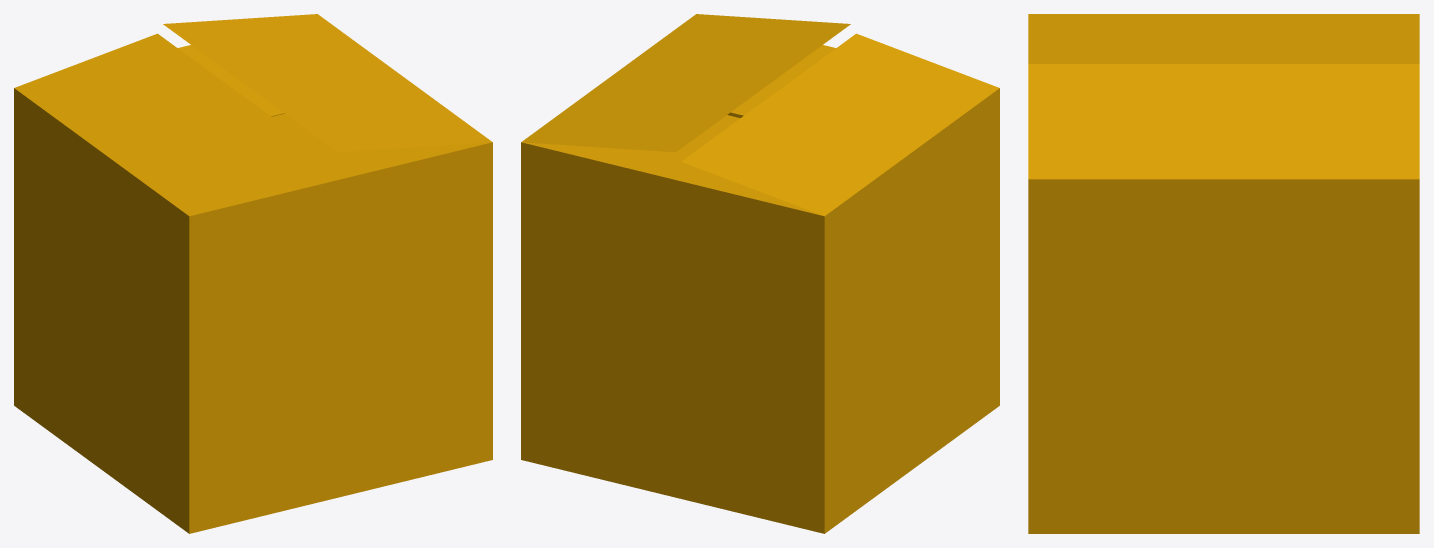
3 views of the same model, side by side, from view 1: azimuth 30°, elevation 25°; view 2: azimuth 150°, elevation 25°; view 3: azimuth 270°, elevation 25° (orthographic). The views are drawn at different scales.
Parts seen in each view (by area): view 1: Cube; view 2: Cube; view 3: Cube.
Boxes of the visible parts, x1,y1,x2,y2 form: Cube: (14,14,492,533); Cube: (521,14,999,533); Cube: (1028,14,1419,533).
Size of the model in its own units: 2 by 2.17 by 2.
